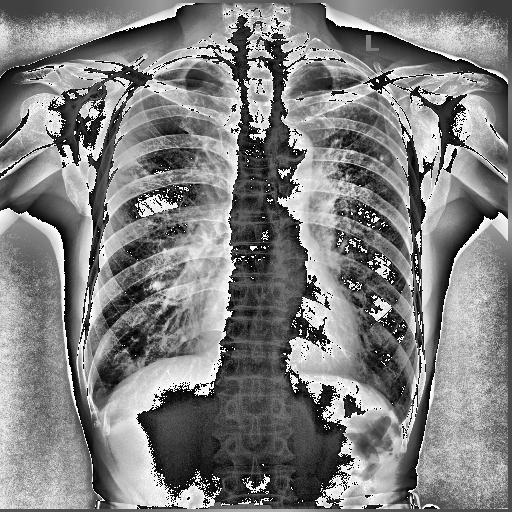10- Pleural effusion: (84, 386, 114, 426), (86, 383, 106, 426), (398, 414, 411, 446)
11- Pleural thickening: (84, 386, 114, 426), (158, 55, 218, 72), (157, 58, 219, 74), (86, 383, 106, 426), (398, 414, 411, 446), (298, 58, 327, 71)
13- Pulmonary fibrosis: (302, 64, 394, 230), (114, 167, 224, 219), (126, 164, 158, 186)
5- ILD: (288, 52, 386, 277), (286, 68, 392, 276)
6- Infiltration: (302, 64, 394, 230)
